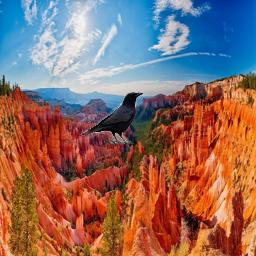Crow: (81, 92, 143, 144)
